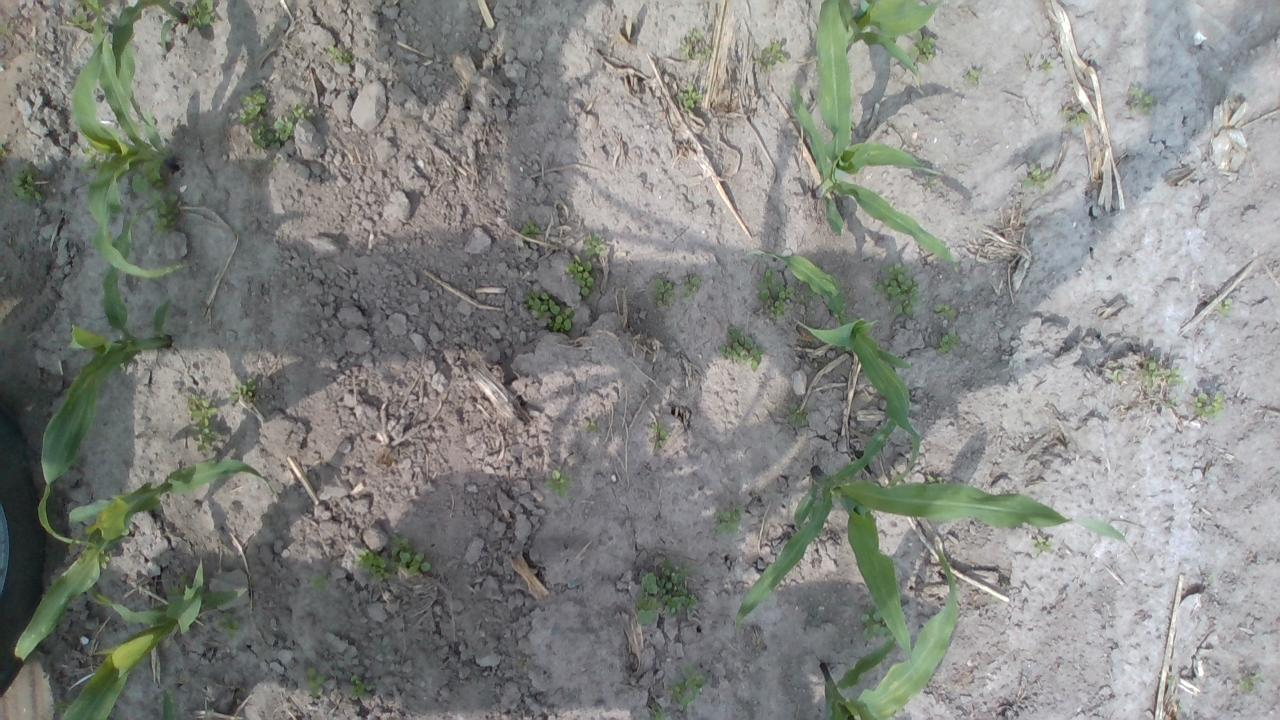Maize: (735, 410, 1139, 667), (13, 457, 274, 664), (34, 207, 174, 548), (786, 0, 958, 270), (748, 250, 922, 489), (70, 16, 196, 279), (59, 558, 250, 720), (819, 539, 960, 720), (110, 0, 191, 138), (830, 0, 943, 94), (160, 690, 177, 720)
Weeds: (634, 563, 700, 626), (874, 262, 920, 316), (718, 325, 764, 372), (239, 92, 273, 153), (757, 268, 795, 321), (185, 393, 219, 452), (530, 290, 572, 334), (270, 103, 314, 142), (1138, 358, 1184, 395), (389, 537, 432, 574), (858, 606, 894, 644), (668, 674, 706, 708), (150, 195, 179, 234), (567, 258, 596, 296), (184, 0, 217, 32), (678, 30, 712, 59), (1192, 390, 1226, 419), (11, 172, 42, 203), (356, 550, 388, 580), (756, 42, 789, 70), (910, 30, 936, 64), (1019, 162, 1052, 188), (1128, 86, 1156, 116), (228, 378, 257, 406), (132, 170, 164, 195), (714, 510, 744, 536), (347, 674, 374, 701), (676, 84, 704, 109), (544, 470, 570, 496), (582, 234, 606, 261), (219, 612, 243, 639), (304, 668, 326, 697), (654, 276, 674, 306), (325, 44, 353, 64), (788, 401, 808, 428), (932, 302, 956, 322), (1032, 534, 1054, 555), (69, 12, 90, 34), (1240, 674, 1262, 694), (941, 331, 960, 354), (1066, 110, 1092, 126), (682, 275, 700, 297), (518, 219, 538, 238), (312, 572, 330, 592), (650, 425, 666, 447), (964, 66, 980, 86), (1038, 56, 1054, 72), (1221, 296, 1234, 312), (0, 142, 8, 160)
